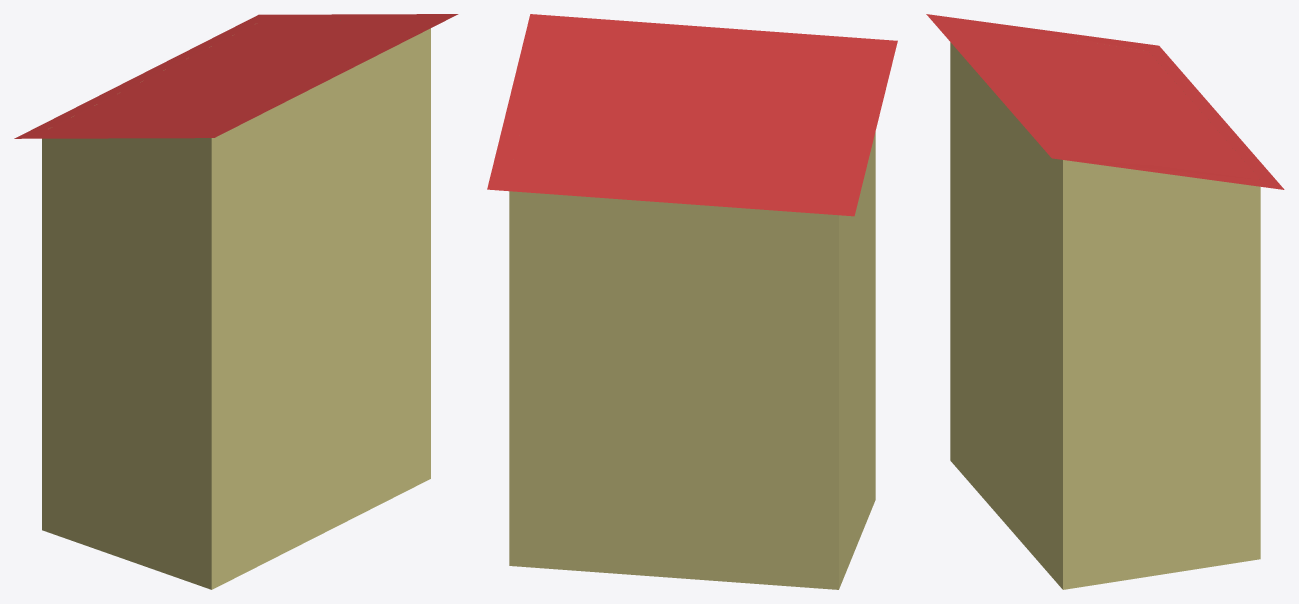
The picture shows the model from 3 angles, left to right: view 1: azimuth 30°, elevation 25°; view 2: azimuth 150°, elevation 25°; view 3: azimuth 270°, elevation 25°; orthographic projection. The views are drawn at different scales.
Size of the model in its own units: 5.68 by 4.77 by 6.48.
